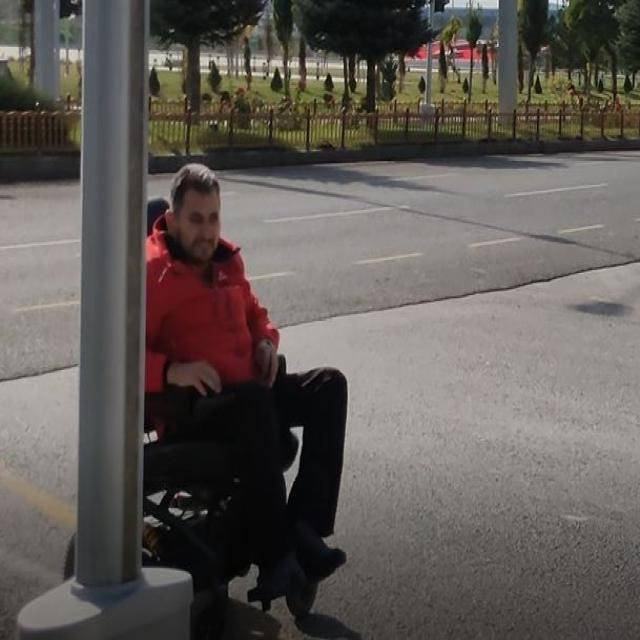wheelchairs: (146, 239, 334, 616)
